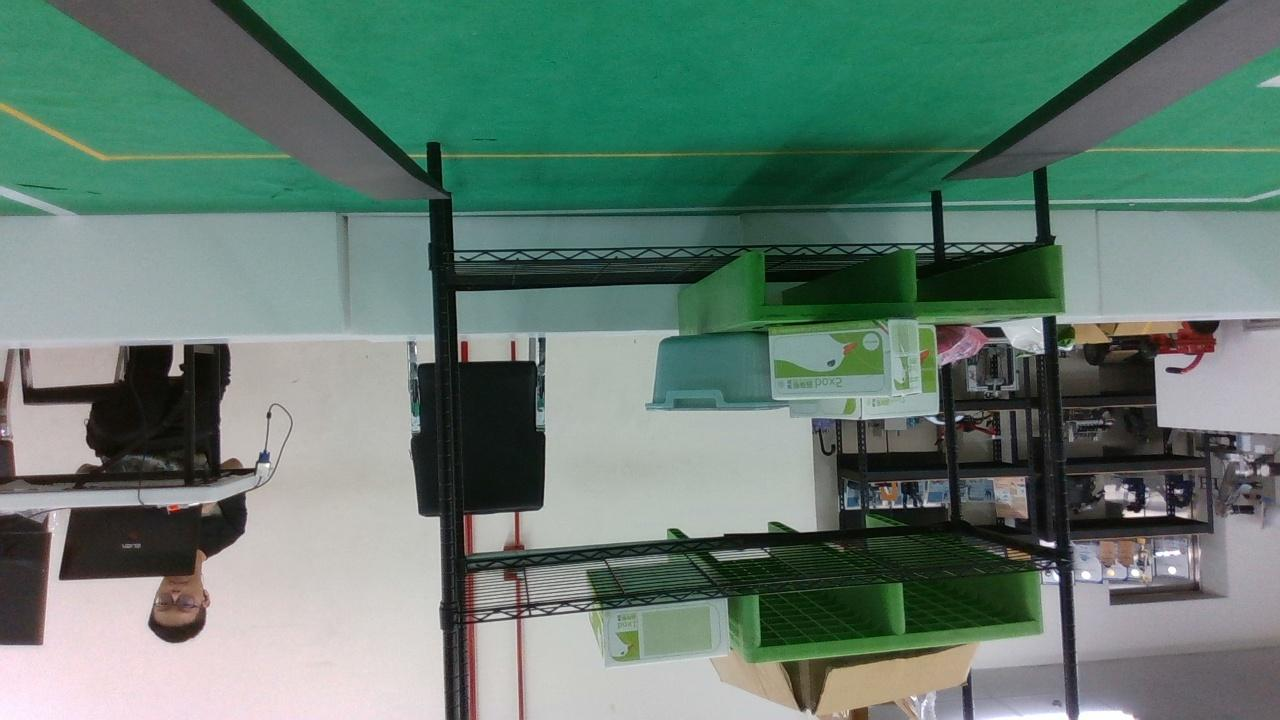Pallet: (744, 565, 1042, 664), (745, 245, 1065, 323)
